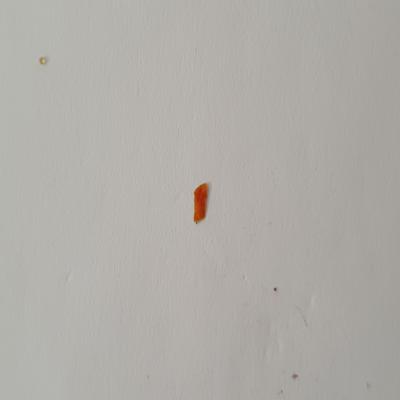plastic: (188, 174, 214, 226)
